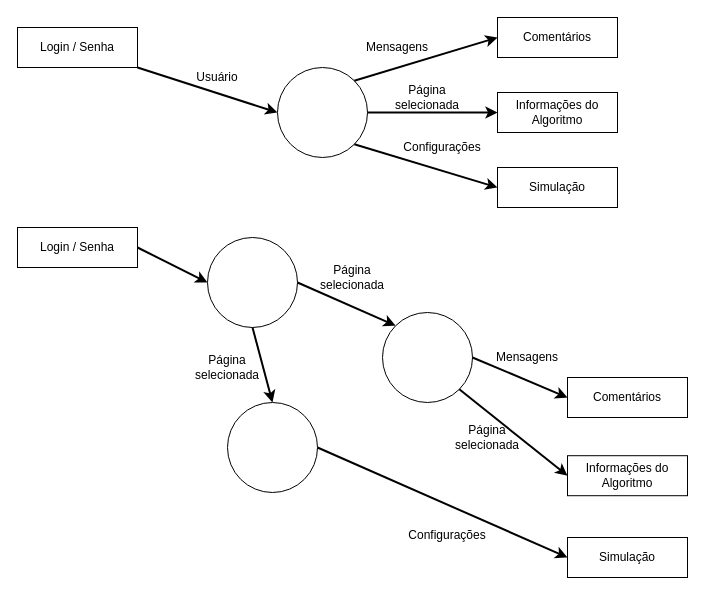
The diagram is 705 pixels wide and 595 high, and some of its shapes have lost their labels. Here are the shapes that lost their labels. From the top down, the box of each, then its label:
(276, 66, 368, 158): Portal de Algoritmos
(206, 236, 298, 328): Página Inicial
(382, 312, 472, 402): Página do Algoritmo
(226, 402, 318, 492): Página de Simulação
